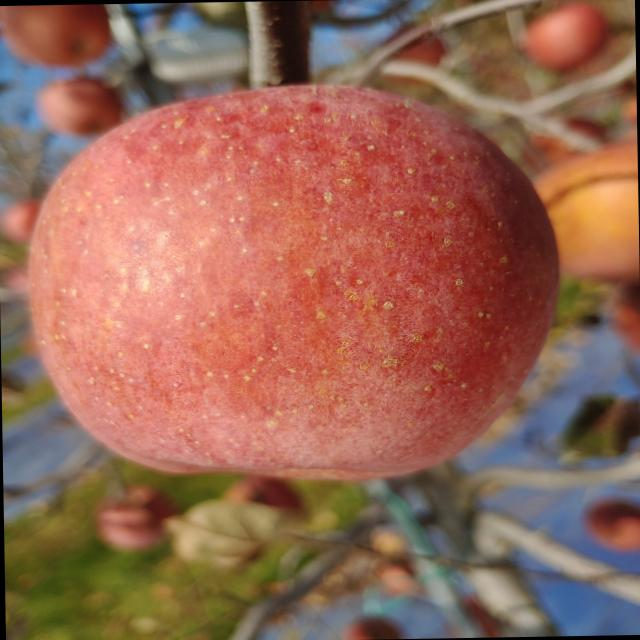fresh: (20, 67, 572, 491)
